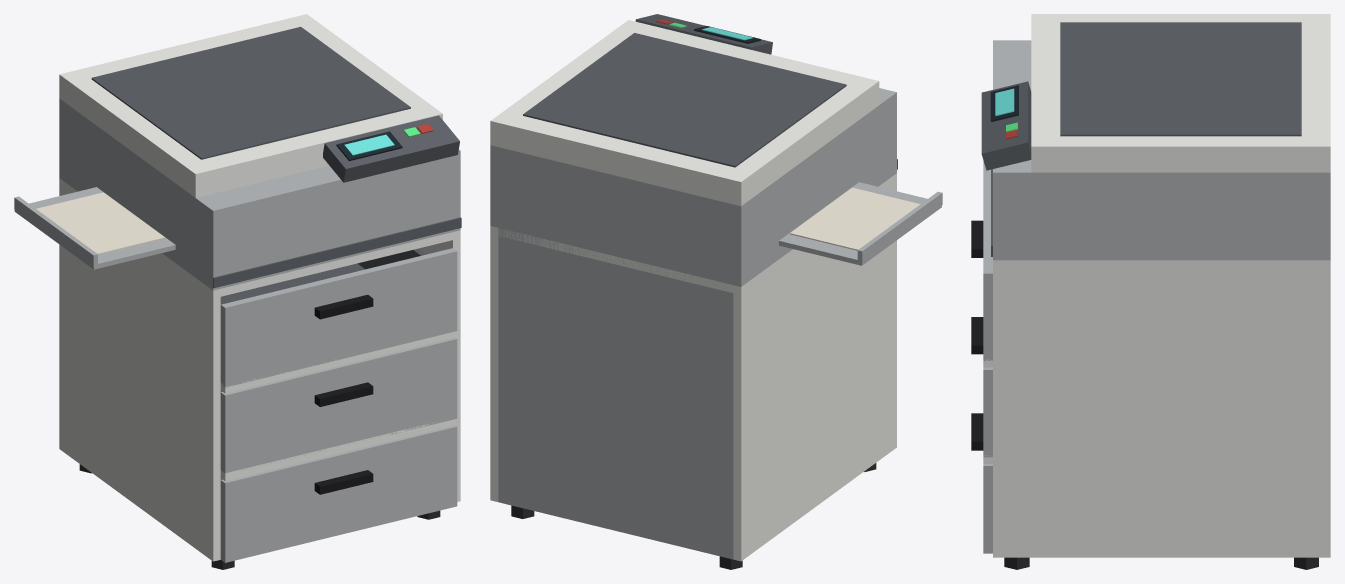
File: GO_Copier_01.glb
3 views of the same model, side by side, from view 1: azimuth 30°, elevation 25°; view 2: azimuth 150°, elevation 25°; view 3: azimuth 270°, elevation 25° (orthographic). The views are drawn at different scales.
Parts seen in each view (by area): view 1: GO_Copier_01, Lid, Tray3, Tray1, Tray2; view 2: GO_Copier_01, Lid; view 3: GO_Copier_01, Lid, Tray3, Tray2, Tray1.
Boxes of the visible parts, x1,y1,x2,y2 form: GO_Copier_01: (14,98,461,569); Lid: (59,14,442,197); Tray3: (220,248,457,387); Tray1: (220,425,457,562); Tray2: (220,337,457,473); GO_Copier_01: (490,14,942,569); Lid: (490,20,879,206); GO_Copier_01: (981,40,1330,569); Lid: (1031,14,1330,172); Tray3: (971,160,992,360); Tray2: (971,317,992,457); Tray1: (971,413,992,553).
Size of the model in its own units: 0.866 by 0.984 by 0.7445.
Materials: 1 (1 with a texture image).
